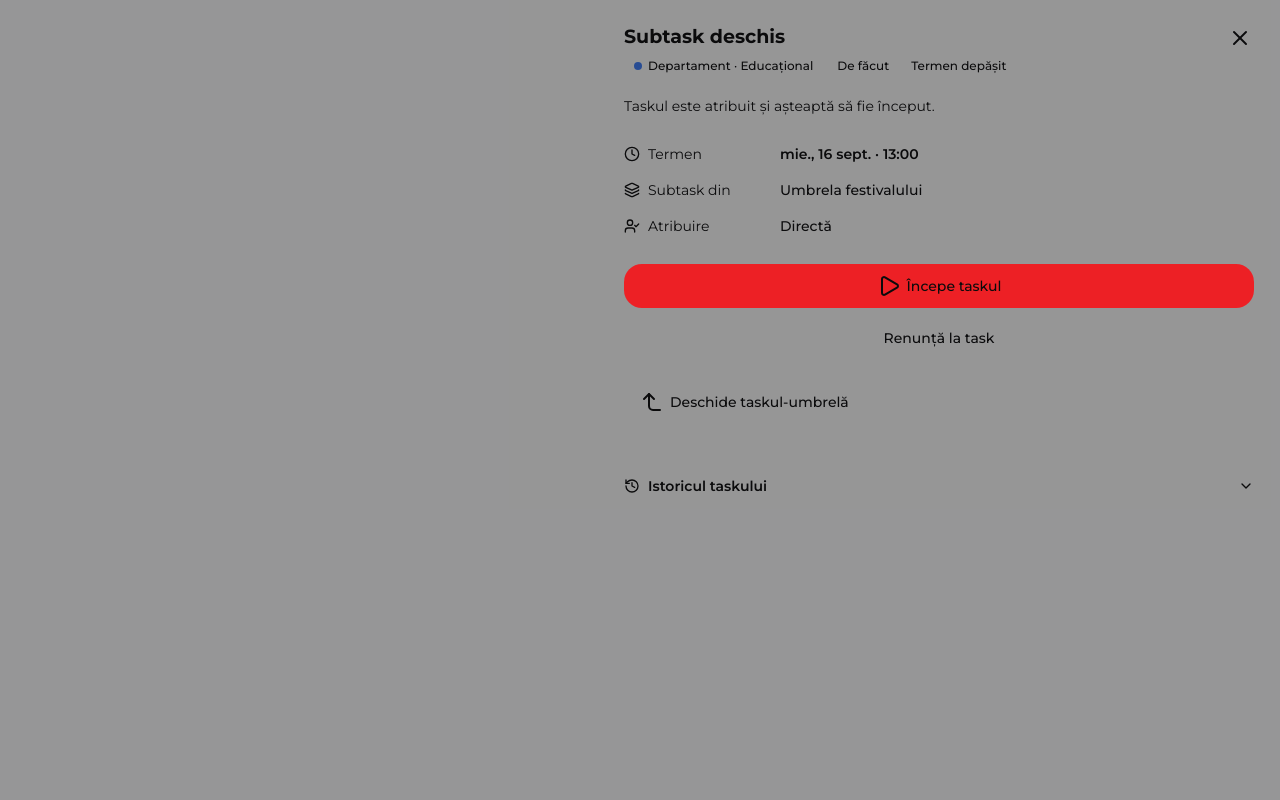
Task details sheet › steps back through Umbrella and Subtask to the Task first opened (D20)
The image size is (1280, 800).
Expected: the heading "Subtask deschis" is shown, [624,25,785,48]
Expected: the button "Înapoi la" is not shown
Click the button "Deschide taskul-umbrelă".
click(744, 402)  # box [624,380,865,424]
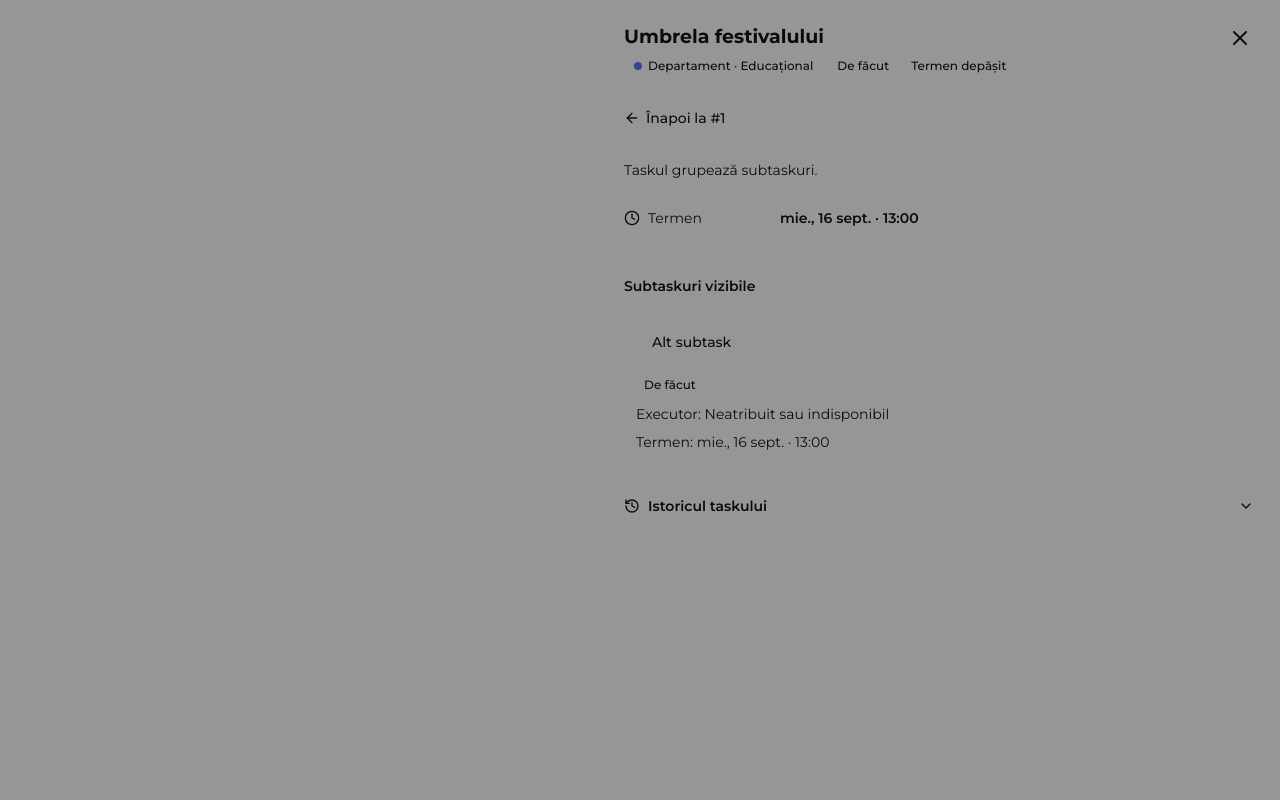
Expected: the heading "Umbrela festivalului" is shown, [624,25,824,48]
Click the button "Alt subtask".
click(692, 342)  # box [636,320,747,364]
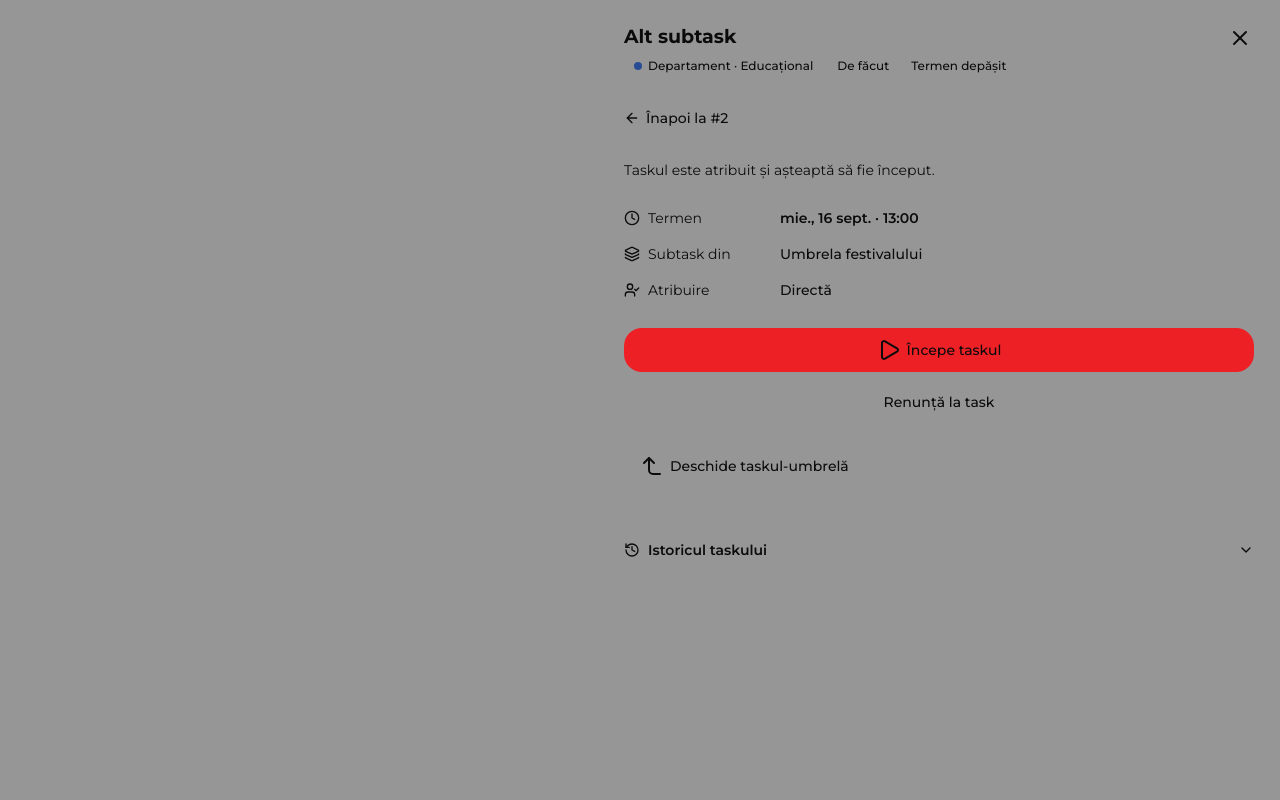
Expected: the heading "Alt subtask" is shown, [624,25,736,48]
Click the button "Înapoi la #2".
click(676, 118)  # box [624,96,728,140]
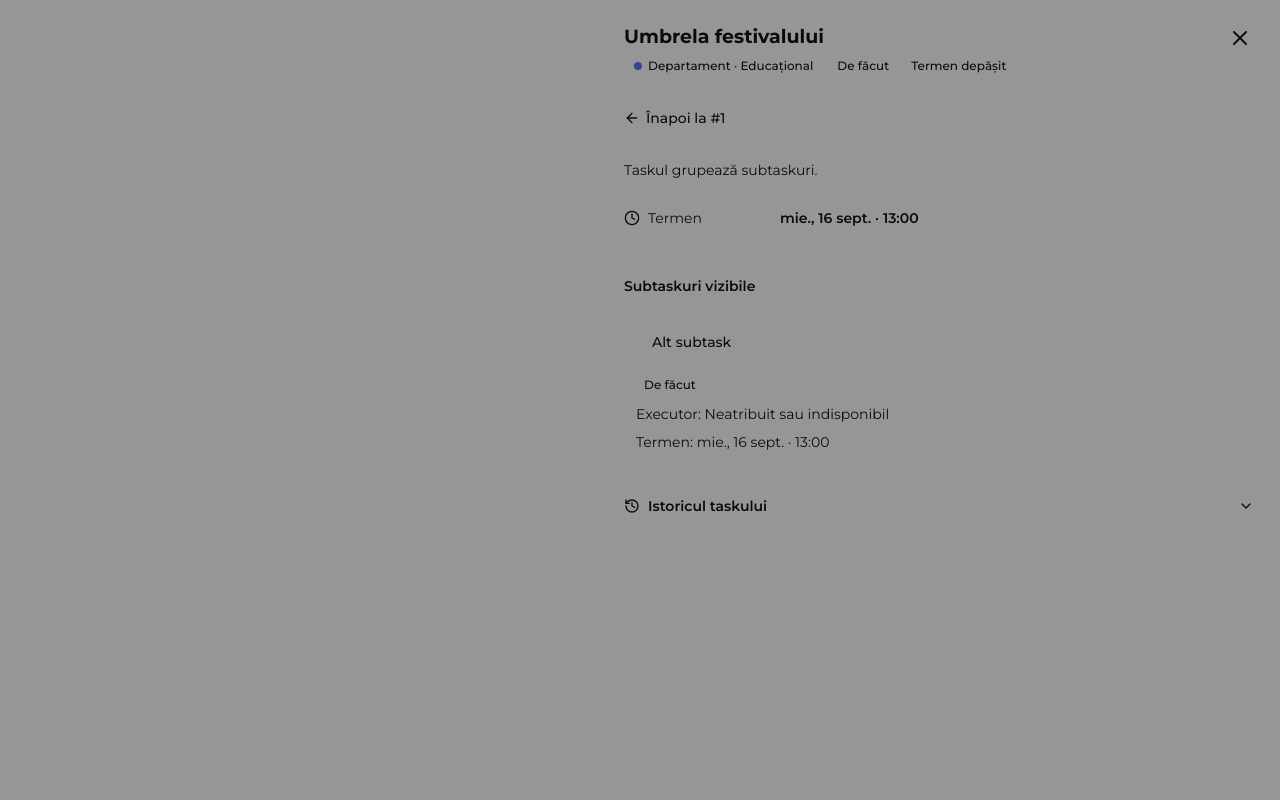
Expected: the heading "Umbrela festivalului" is shown, [624,25,824,48]
Click the button "Înapoi la #1".
click(675, 118)  # box [624,96,725,140]
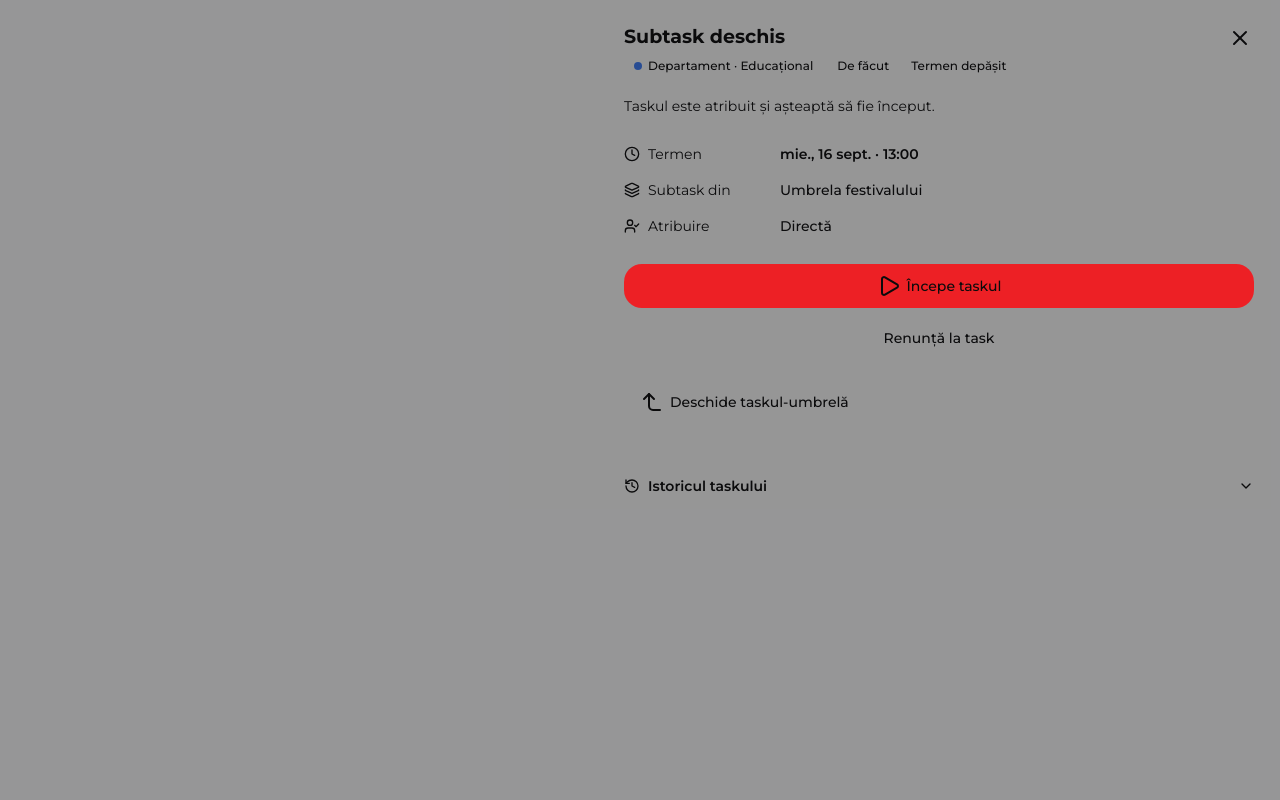
Expected: the heading "Subtask deschis" is shown, [624,25,785,48]
Expected: the button "Înapoi la" is gone
